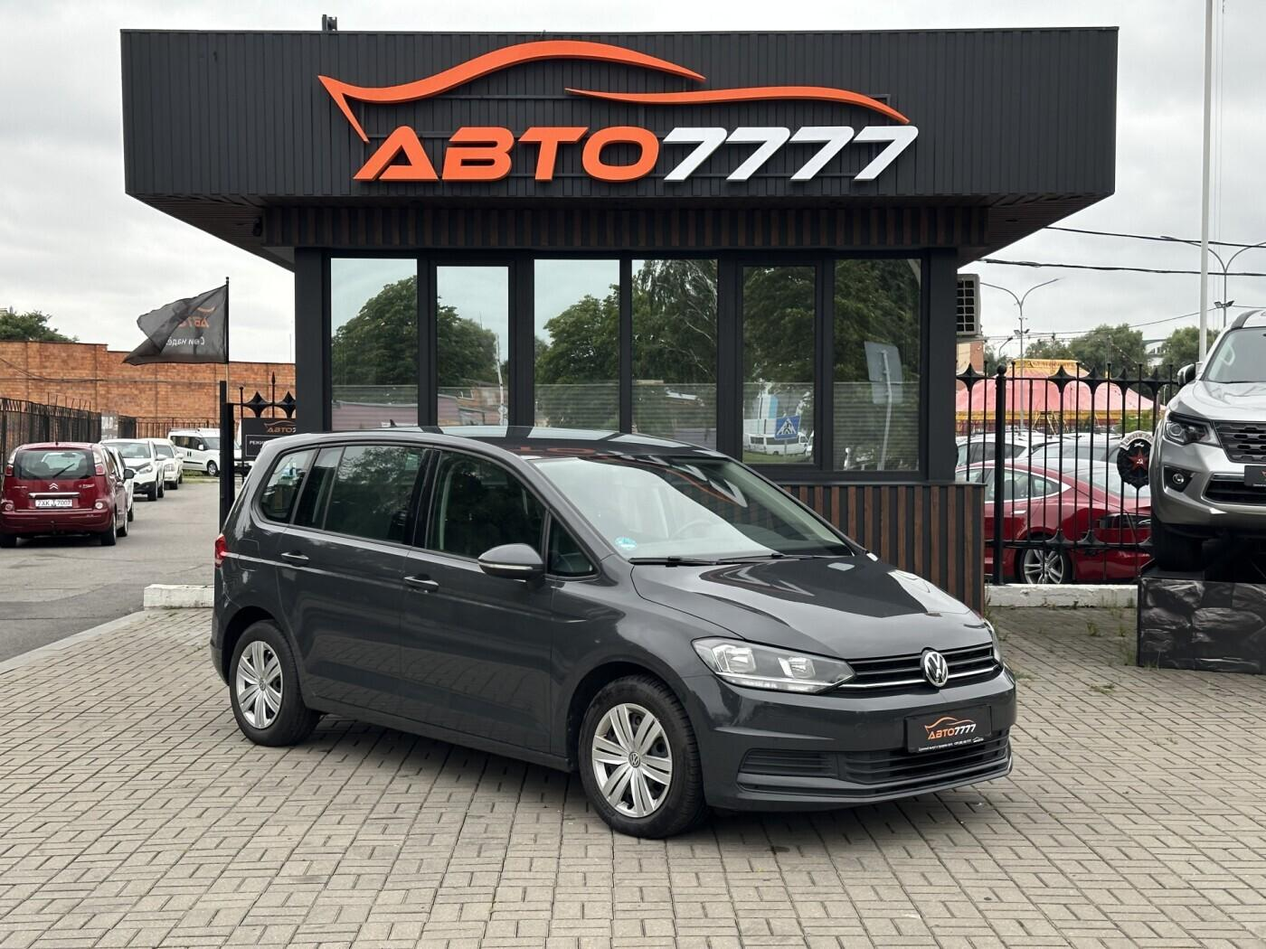Touran_2015: (205, 418, 1019, 839)
